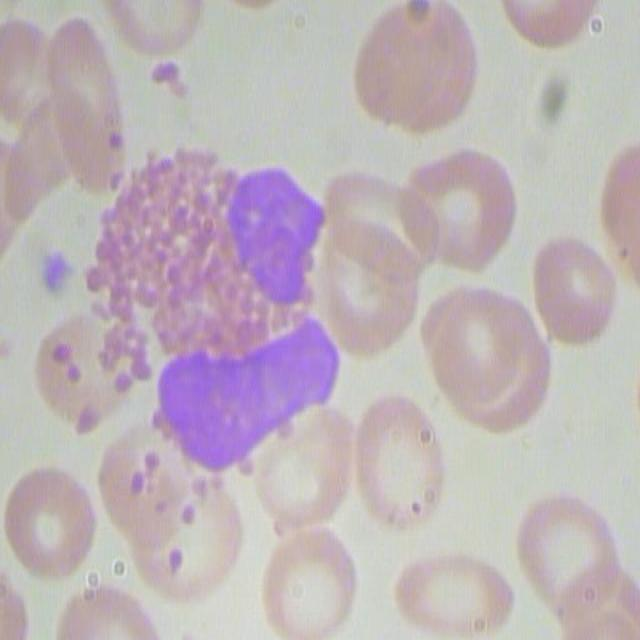RBC: (315, 140, 426, 362), (17, 2, 128, 200), (121, 428, 239, 609), (426, 280, 554, 436), (352, 0, 479, 137), (402, 140, 517, 274), (240, 408, 352, 538), (348, 394, 449, 536), (511, 492, 625, 614), (259, 522, 360, 636), (392, 542, 511, 638), (2, 466, 92, 584), (525, 234, 616, 346), (31, 315, 109, 436), (59, 582, 167, 640), (601, 129, 640, 284), (102, 0, 204, 56), (498, 0, 602, 47)
WBC: (127, 160, 338, 452)
platelets: (38, 246, 76, 304)
